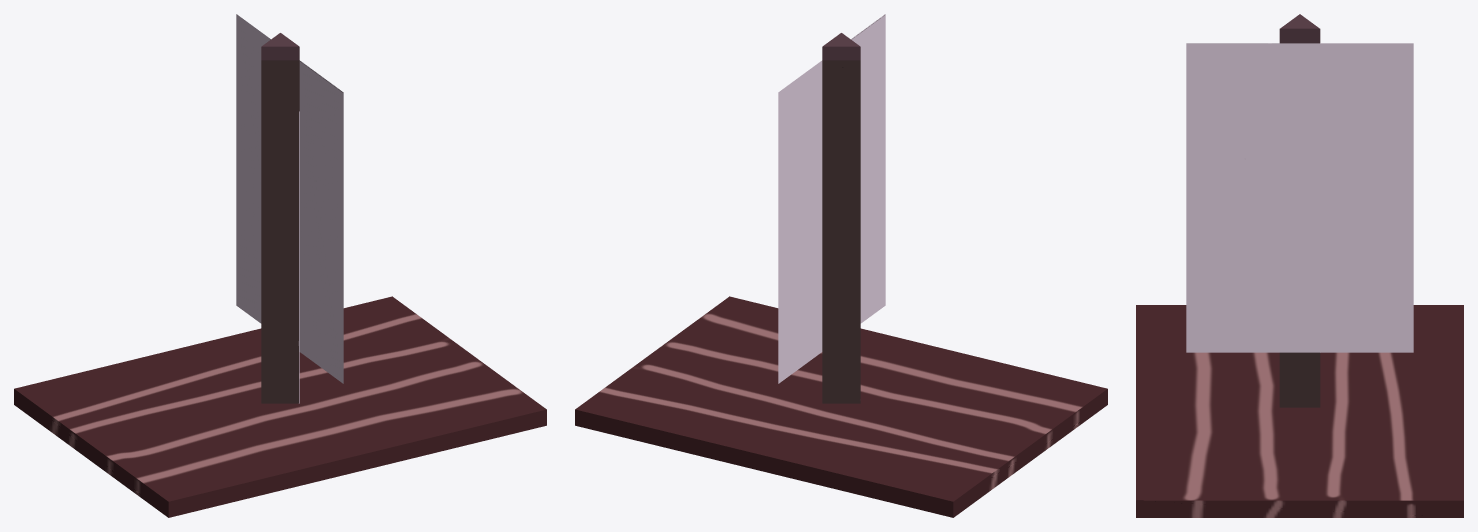
File: airship.fbx
3 renders of one model, left to right at view 1: azimuth 30°, elevation 25°; view 2: azimuth 150°, elevation 25°; view 3: azimuth 270°, elevation 25°, orthographic. The views are drawn at different scales.
Visible parts, largest first — view 1: Cube, Cylinder; view 2: Cube, Cylinder; view 3: Cylinder, Cube.
Boxes of the visible parts, x1=… form: Cube: x1=14, y1=296, x2=546, y2=517; Cylinder: x1=236, y1=14, x2=343, y2=403; Cube: x1=575, y1=296, x2=1107, y2=517; Cylinder: x1=778, y1=14, x2=885, y2=403; Cylinder: x1=1186, y1=14, x2=1413, y2=407; Cube: x1=1136, y1=305, x2=1463, y2=517.
Bounding box in the file's own units: 826 × 780 × 584.
